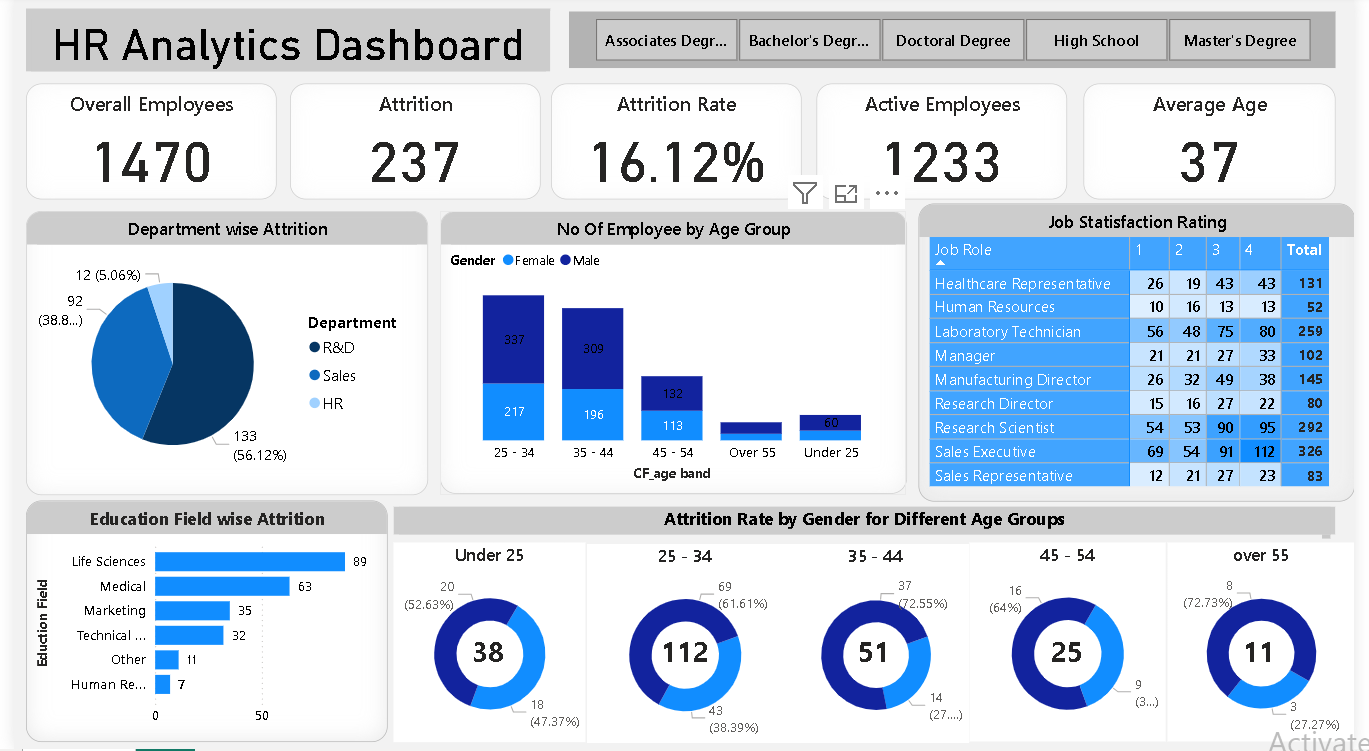

Layout of this report page (visuals, bound fields, positions):
{"tool":"powerbi","page":{"name":"Page 1","canvas":[1280,720],"ordinal":0},"visuals":[{"type":"card","title":"Overall Employees","fields":{"Values":["Sum(HR Data xlsx - HR data.Employee count)"]},"box":[11.4,84.6,239.1,110.6],"z":0},{"type":"card","title":"Attrition","fields":{"Values":["Sum(HR Data xlsx - HR data.Attrition Count)"]},"box":[263.5,84.6,239.1,110.6],"z":1000},{"type":"card","title":"Attrition Rate","fields":{"Values":["HR Data xlsx - HR data.Attrition Rate"]},"box":[512.4,84.6,239.1,110.6],"z":2000},{"type":"card","title":"Active Employees","fields":{"Values":["HR Data xlsx - HR data.Active Employees"]},"box":[766.1,84.6,239.1,110.6],"z":3000},{"type":"card","title":"Average Age","fields":{"Values":["Avg(HR Data xlsx - HR data.Age)"]},"box":[1021.5,84.6,240.7,110.6],"z":4000},{"type":"pieChart","title":"Department wise Attrition","fields":{"Category":["HR Data xlsx - HR data.Department"],"Y":["Sum(HR Data xlsx - HR data.Attrition Count)"]},"box":[11.4,206.6,383.9,271.6],"z":5000},{"type":"columnChart","title":"No Of Employee by Age Group","fields":{"Category":["HR Data xlsx - HR data.CF_age band"],"Y":["Sum(HR Data xlsx - HR data.Employee count)"],"Series":["HR Data xlsx - HR data.Gender"]},"box":[406.6,206.6,445.7,270],"z":6000},{"type":"pivotTable","title":"Job Statisfaction Rating","fields":{"Rows":["HR Data xlsx - HR data.Job Role"],"Columns":["HR Data xlsx - HR data.job statisfaction"],"Values":["Sum(HR Data xlsx - HR data.Employee count)"]},"box":[863.7,198.4,416.4,284.6],"z":7000},{"type":"barChart","title":"Education Field wise Attrition","fields":{"Category":["HR Data xlsx - HR data.Eduction Field"],"Y":["Sum(HR Data xlsx - HR data.Attrition Count)"]},"box":[11.4,483.1,345,231],"z":8000},{"type":"donutChart","title":"Under 25","fields":{"Category":["HR Data xlsx - HR data.Gender"],"Y":["Sum(HR Data xlsx - HR data.Attrition Count)"],"Series":["HR Data xlsx - HR data.CF_age band"]},"box":[362.8,523.5,183.3,190.9],"z":9000},{"type":"textbox","title":"Attrition Rate by Gender for Different Age Groups","box":[362.7,488,899.5,35.8],"z":10000},{"type":"donutChart","title":"25 - 34","fields":{"Category":["HR Data xlsx - HR data.Gender"],"Y":["Sum(HR Data xlsx - HR data.Attrition Count)"],"Series":["HR Data xlsx - HR data.CF_age band"]},"box":[546.5,523.7,187.1,190.3],"z":11000},{"type":"donutChart","title":"35 - 44","fields":{"Category":["HR Data xlsx - HR data.Gender"],"Y":["Sum(HR Data xlsx - HR data.Attrition Count)"],"Series":["HR Data xlsx - HR data.CF_age band"]},"box":[733.6,523.7,178.9,190.3],"z":12000},{"type":"donutChart","title":"45 - 54","fields":{"Category":["HR Data xlsx - HR data.Gender"],"Y":["Sum(HR Data xlsx - HR data.Attrition Count)"],"Series":["HR Data xlsx - HR data.CF_age band"]},"box":[912.5,522.1,187.1,190.3],"z":13000},{"type":"donutChart","title":"over 55","fields":{"Category":["HR Data xlsx - HR data.Gender"],"Y":["Sum(HR Data xlsx - HR data.Attrition Count)"],"Series":["HR Data xlsx - HR data.CF_age band"]},"box":[1101.1,522.1,178.9,190.3],"z":14000},{"type":"card","fields":{"Values":["Sum(HR Data xlsx - HR data.Attrition Count)"]},"box":[419.5,599.1,66.1,56.7],"z":15000},{"type":"card","fields":{"Values":["Sum(HR Data xlsx - HR data.Attrition Count)"]},"box":[606.6,599.1,66.1,56.7],"z":16000},{"type":"card","fields":{"Values":["Sum(HR Data xlsx - HR data.Attrition Count)"]},"box":[788,599.1,66.1,56.7],"z":17000},{"type":"card","fields":{"Values":["Sum(HR Data xlsx - HR data.Attrition Count)"]},"box":[973.2,599.1,66.1,56.7],"z":18000},{"type":"card","fields":{"Values":["Sum(HR Data xlsx - HR data.Attrition Count)"]},"box":[1156.5,599.1,66.1,56.7],"z":19000},{"type":"textbox","title":"HR Analytics Dashboard","box":[11.4,13,501,60.2],"z":20000},{"type":"slicer","fields":{"Values":["HR Data xlsx - HR data.Eduction"]},"box":[530.3,16.3,731.9,53.7],"z":21000}]}

Visuals, with their boxes in screenshot pixels (x1, y1, x2, y2), scaled from the page's 1280x720 canvas onto the 1369x751 screenshot:
"Overall Employees" card: Rect(12, 88, 268, 204)
"Attrition" card: Rect(282, 88, 538, 204)
"Attrition Rate" card: Rect(548, 88, 804, 204)
"Active Employees" card: Rect(819, 88, 1075, 204)
"Average Age" card: Rect(1093, 88, 1350, 204)
"Department wise Attrition" pieChart: Rect(12, 215, 423, 499)
"No Of Employee by Age Group" columnChart: Rect(435, 215, 912, 497)
"Job Statisfaction Rating" pivotTable: Rect(924, 207, 1368, 504)
"Education Field wise Attrition" barChart: Rect(12, 504, 381, 745)
"Under 25" donutChart: Rect(388, 546, 584, 745)
"Attrition Rate by Gender for Different Age Groups" textbox: Rect(388, 509, 1350, 546)
"25 - 34" donutChart: Rect(584, 546, 785, 745)
"35 - 44" donutChart: Rect(785, 546, 976, 745)
"45 - 54" donutChart: Rect(976, 545, 1176, 743)
"over 55" donutChart: Rect(1178, 545, 1368, 743)
card - Sum(HR Data xlsx - HR data.Attrition Count): Rect(449, 625, 519, 684)
card - Sum(HR Data xlsx - HR data.Attrition Count): Rect(649, 625, 719, 684)
card - Sum(HR Data xlsx - HR data.Attrition Count): Rect(843, 625, 913, 684)
card - Sum(HR Data xlsx - HR data.Attrition Count): Rect(1041, 625, 1112, 684)
card - Sum(HR Data xlsx - HR data.Attrition Count): Rect(1237, 625, 1308, 684)
"HR Analytics Dashboard" textbox: Rect(12, 14, 548, 76)
slicer - HR Data xlsx - HR data.Eduction: Rect(567, 17, 1350, 73)
